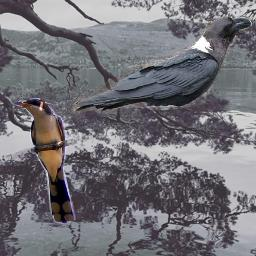Crow: (72, 16, 252, 114)
Cuckoo: (13, 98, 76, 225)
